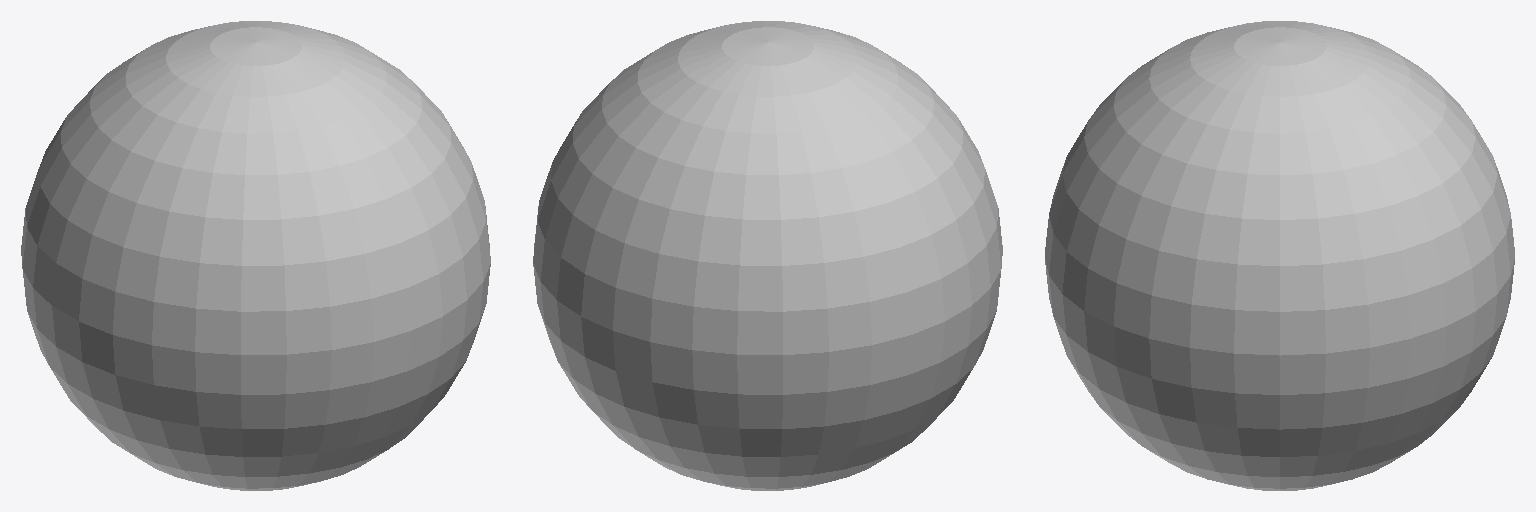
Rendered from deathParticle.obj.
The picture shows the model from 3 angles: view 1: azimuth 30°, elevation 25°; view 2: azimuth 150°, elevation 25°; view 3: azimuth 270°, elevation 25°; orthographic projection.
Parts seen in each view (by area): view 1: 球; view 2: 球; view 3: 球.
Part boxes in pixels (x1,y1,x2,y2): 球: (21, 21, 490, 490); 球: (533, 21, 1002, 490); 球: (1045, 21, 1514, 490).
Bounding box in the file's own units: 0.5 × 0.5 × 0.5.